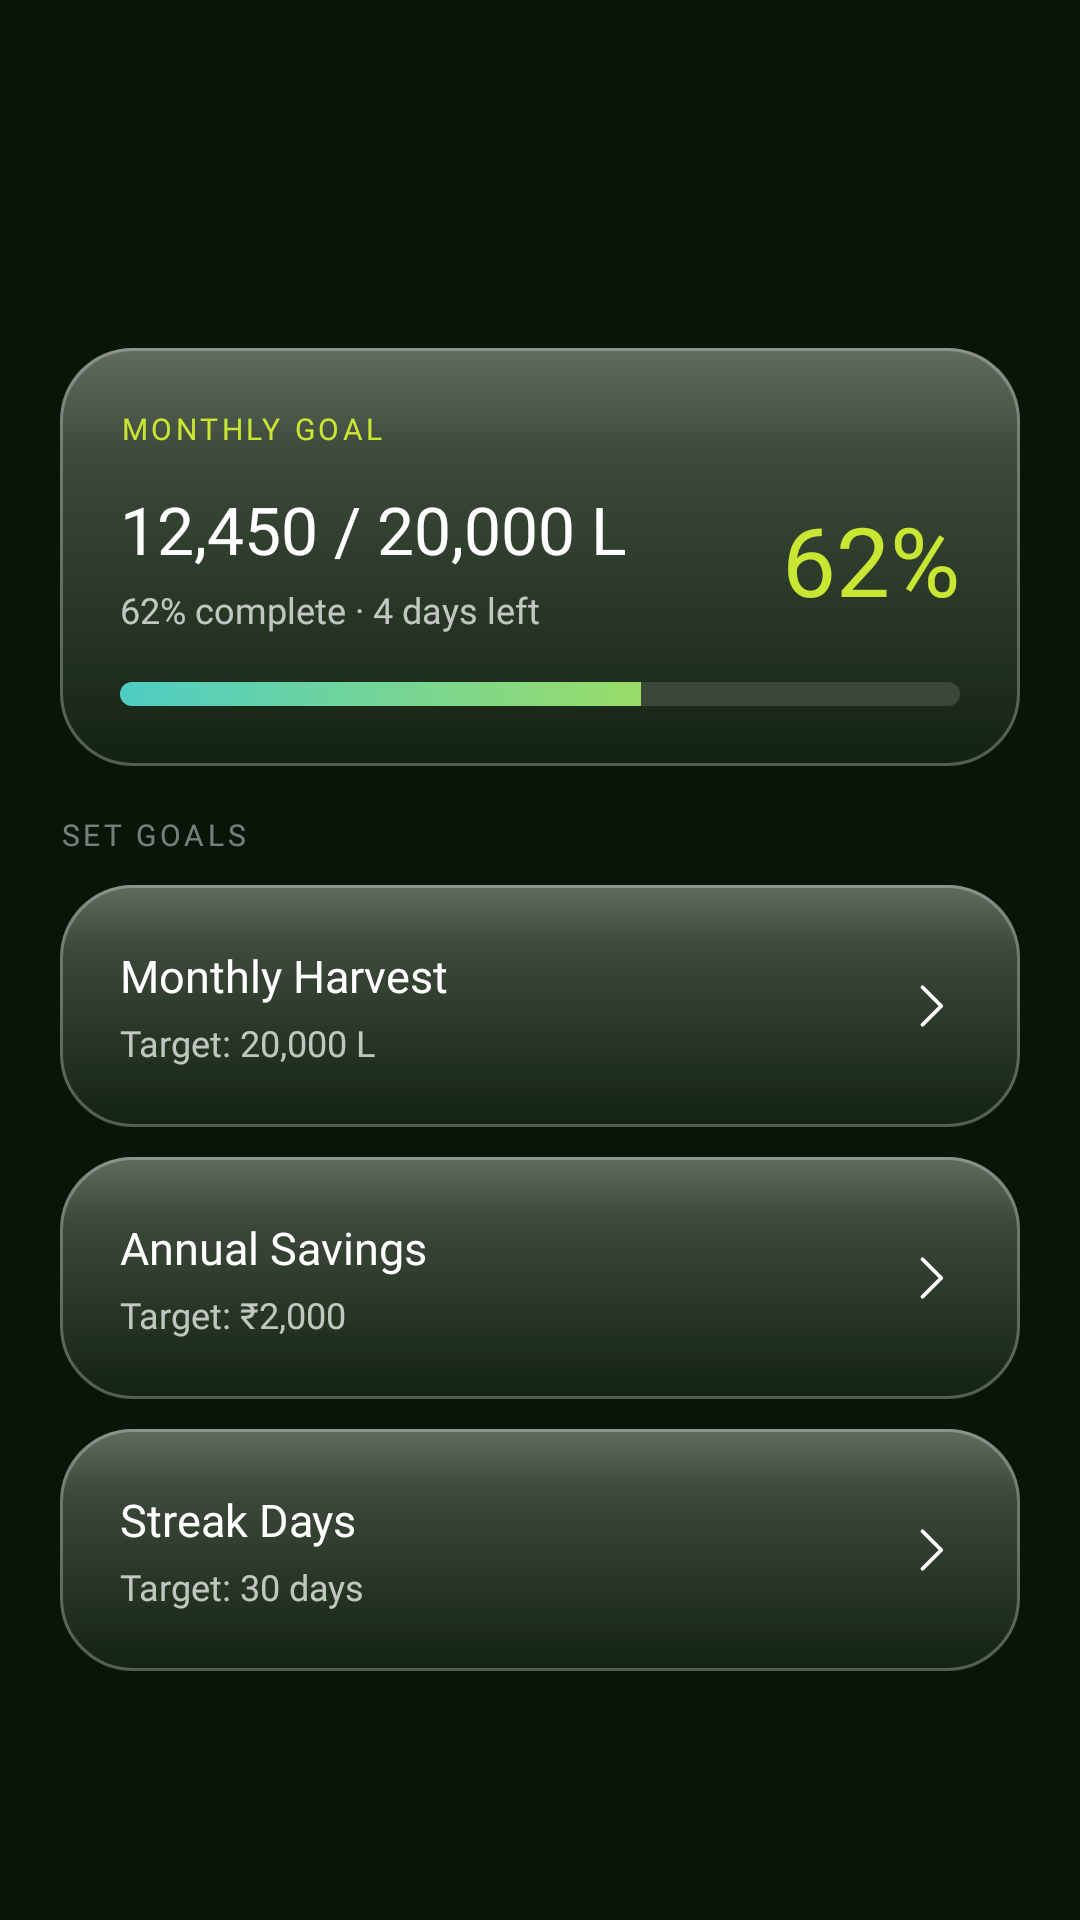

Point at icon controls on the screen. Image size 1080px×1920px, points as [x,y].
chevron right: [931,1006], [931,1278], [931,1550]
